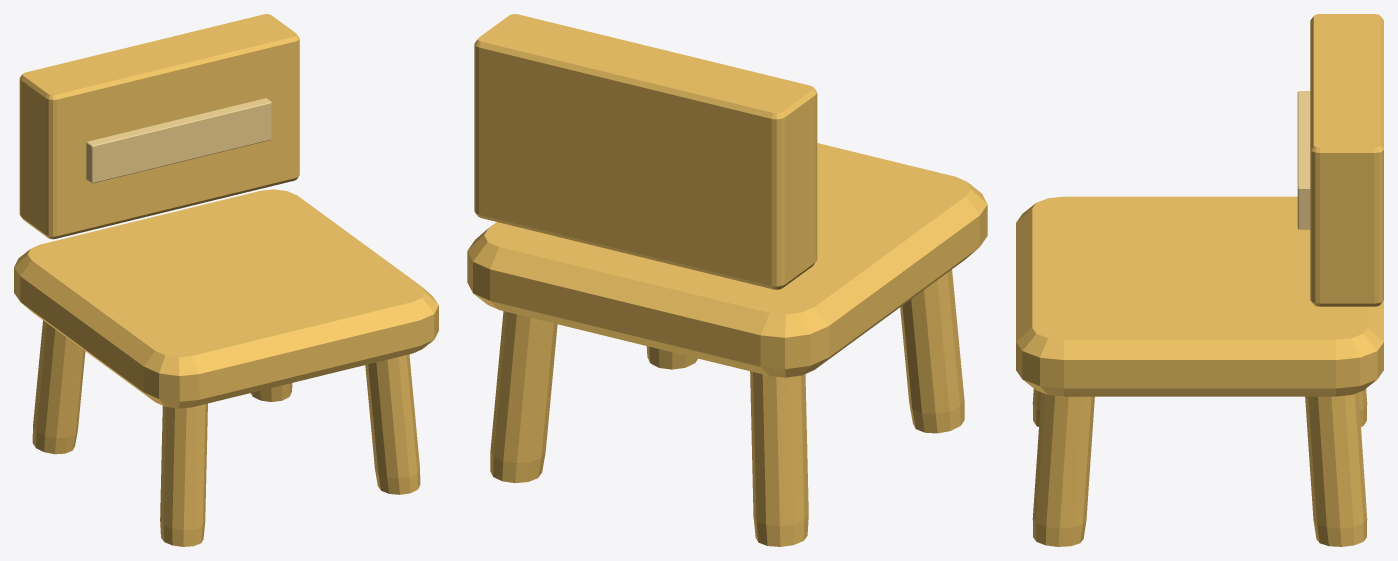
Rendered from school_chair.glb.
The picture shows the model from 3 angles, left to right: view 1: azimuth 30°, elevation 25°; view 2: azimuth 150°, elevation 25°; view 3: azimuth 270°, elevation 25°; orthographic projection. The views are drawn at different scales.
Parts seen in each view (by area): view 1: model; view 2: model; view 3: model.
Part boxes in pixels (bbox=[...]): model: bbox=[14, 14, 438, 546]; model: bbox=[467, 14, 987, 546]; model: bbox=[1016, 14, 1383, 546].
Size of the model in its own units: 0.5 by 0.6 by 0.5.
